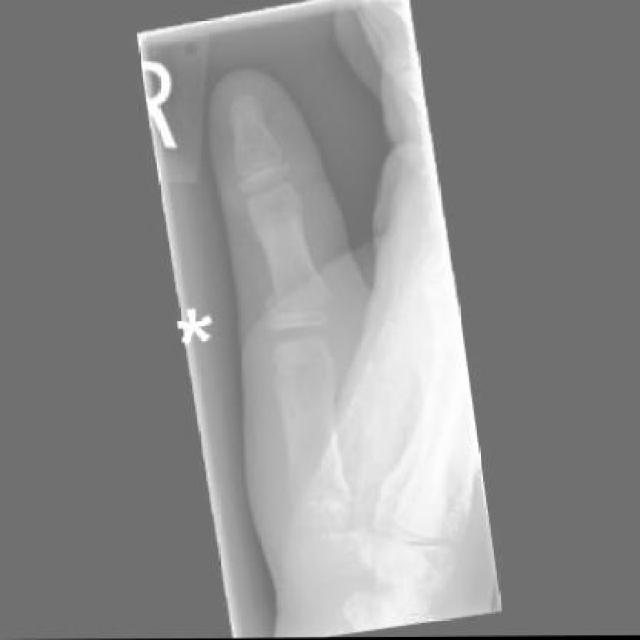Fracture: (260, 268, 339, 326)
